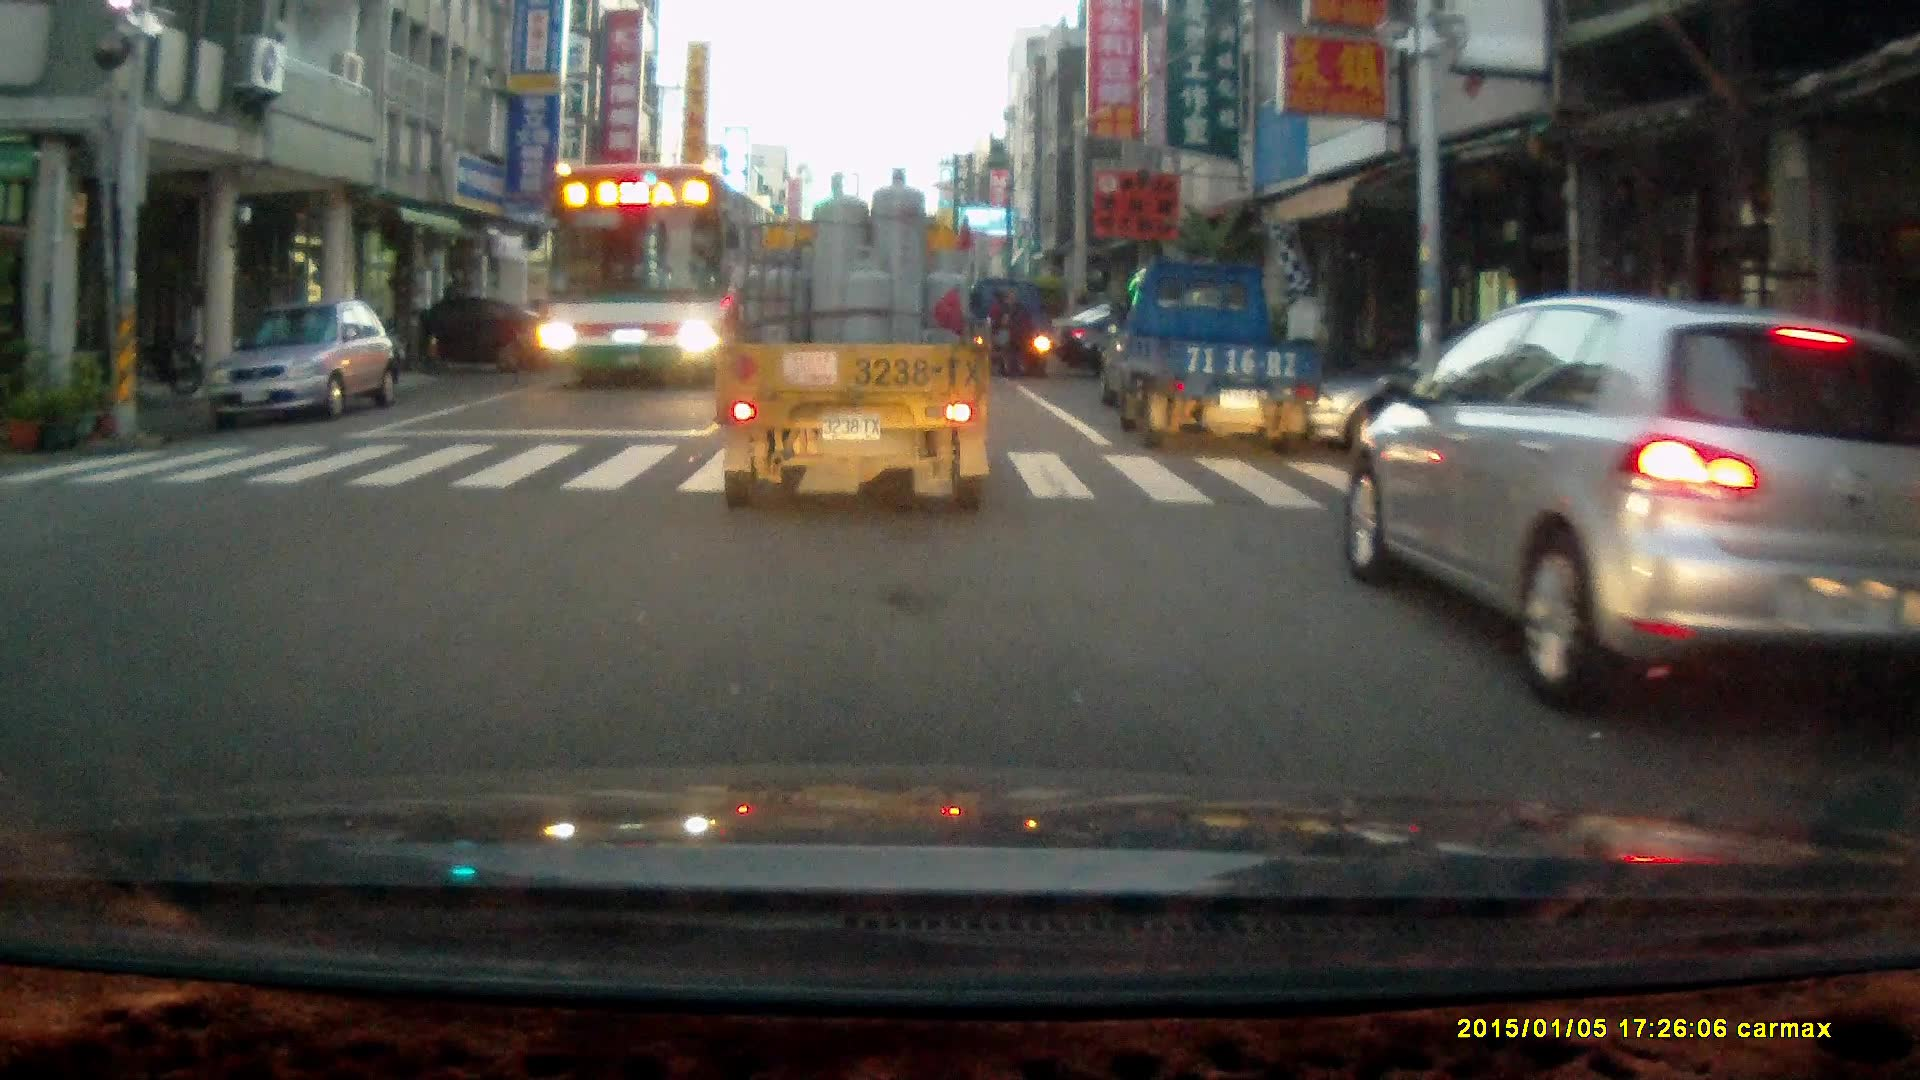pedestrian: (993, 286, 1033, 381)
vehicle: (1343, 297, 1920, 706), (720, 164, 998, 518), (536, 160, 771, 389), (1100, 258, 1320, 452), (201, 292, 406, 427), (390, 295, 560, 375), (969, 273, 1064, 382)
